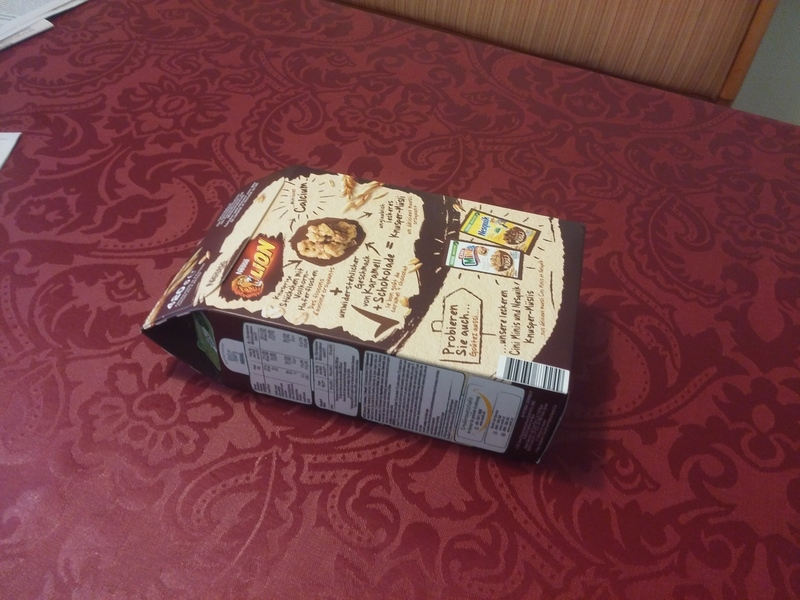cereals: (140, 161, 587, 468)
